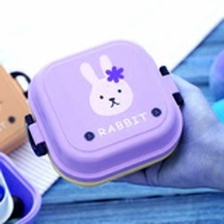plastic_box: (18, 31, 192, 191), (0, 58, 42, 163), (0, 145, 46, 224)
